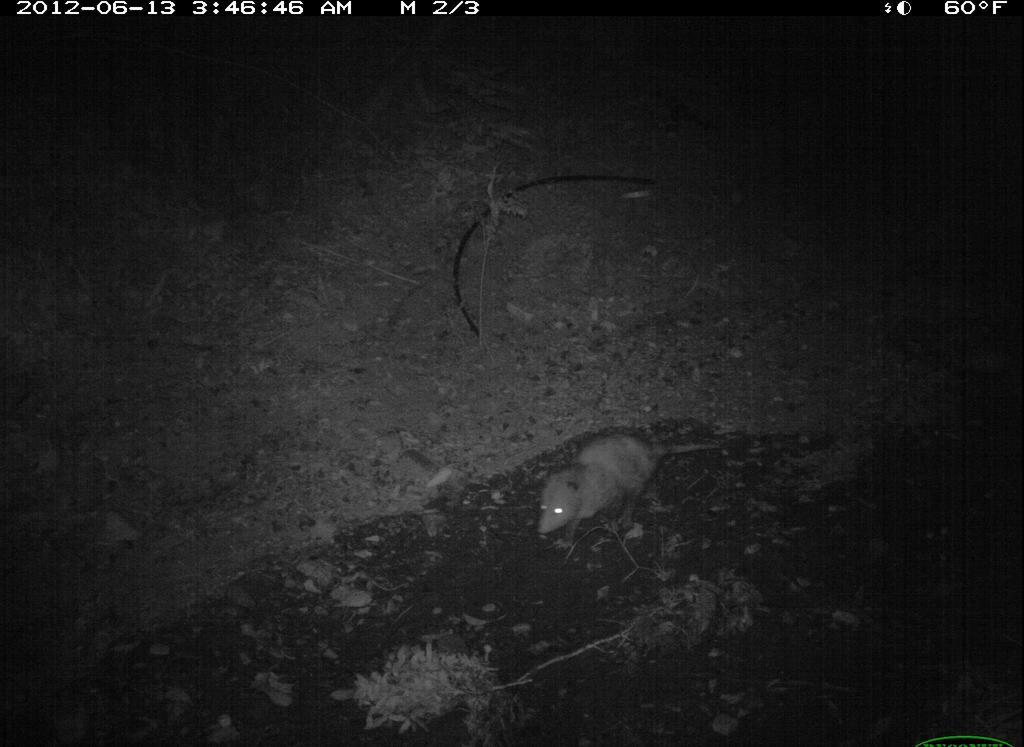opossum: (532, 424, 720, 546)
